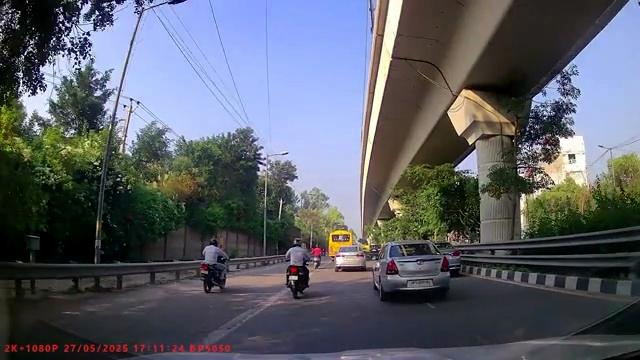motorcycle_with_helmet: (284, 236, 313, 299), (199, 236, 229, 294)
